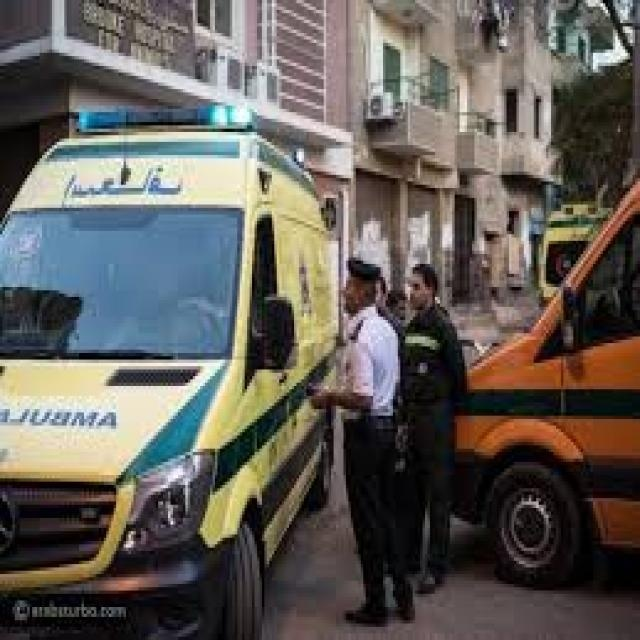Ambulance: (0, 102, 339, 637), (447, 172, 638, 587)
person: (307, 257, 415, 623), (398, 260, 467, 593)
